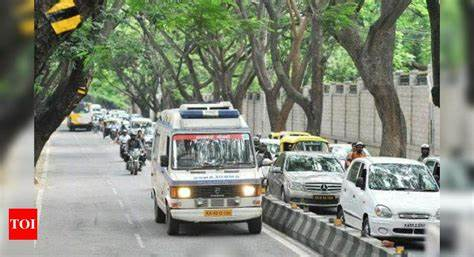ambulance: (141, 98, 277, 232)
